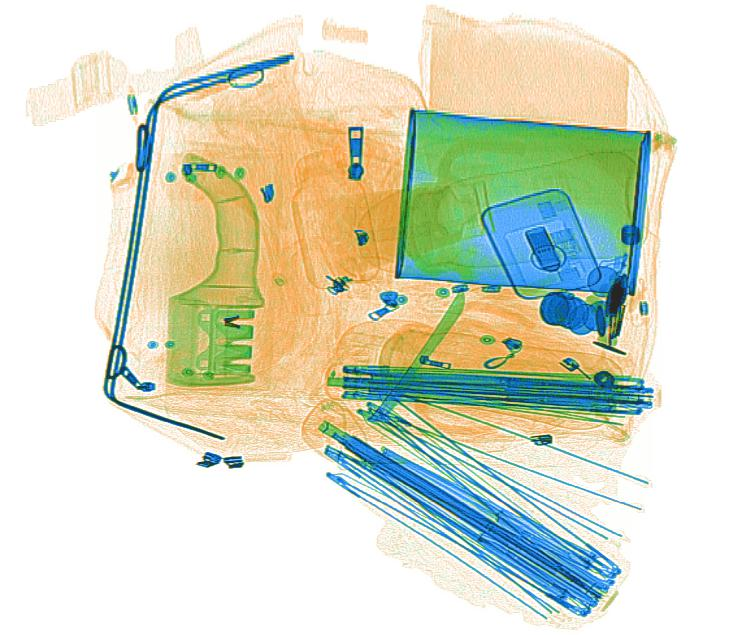USBFlashDisk: (520, 227, 567, 276)
